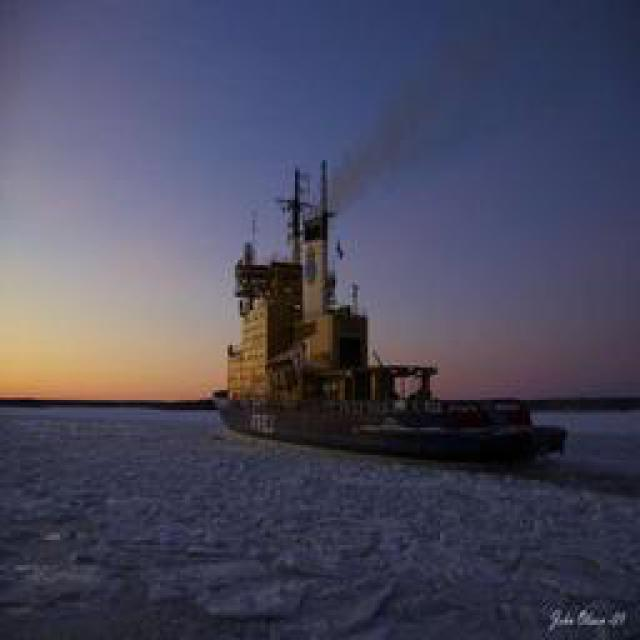Ship: (217, 394, 557, 467)
